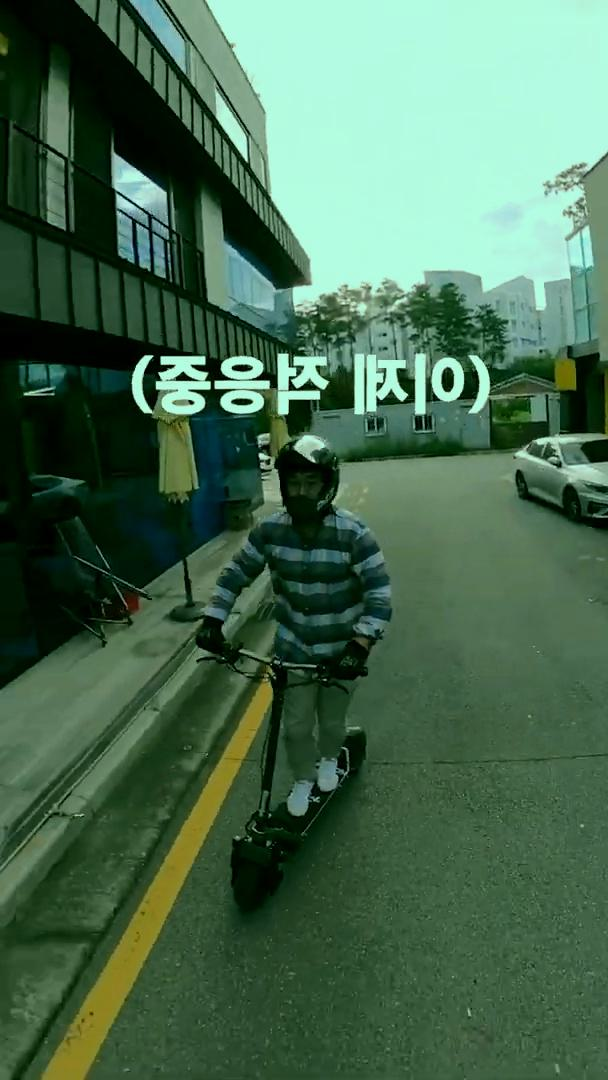helmet: (191, 433, 398, 913)
